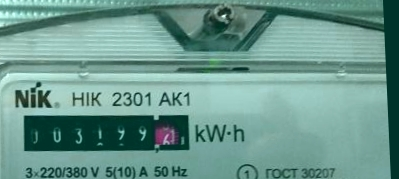0: (27, 124, 40, 145), (50, 123, 62, 143)
1: (94, 121, 104, 140)
3: (72, 125, 84, 144)
6: (161, 130, 172, 146)
9: (115, 121, 126, 141), (136, 122, 147, 141)
screen: (15, 103, 199, 165)
